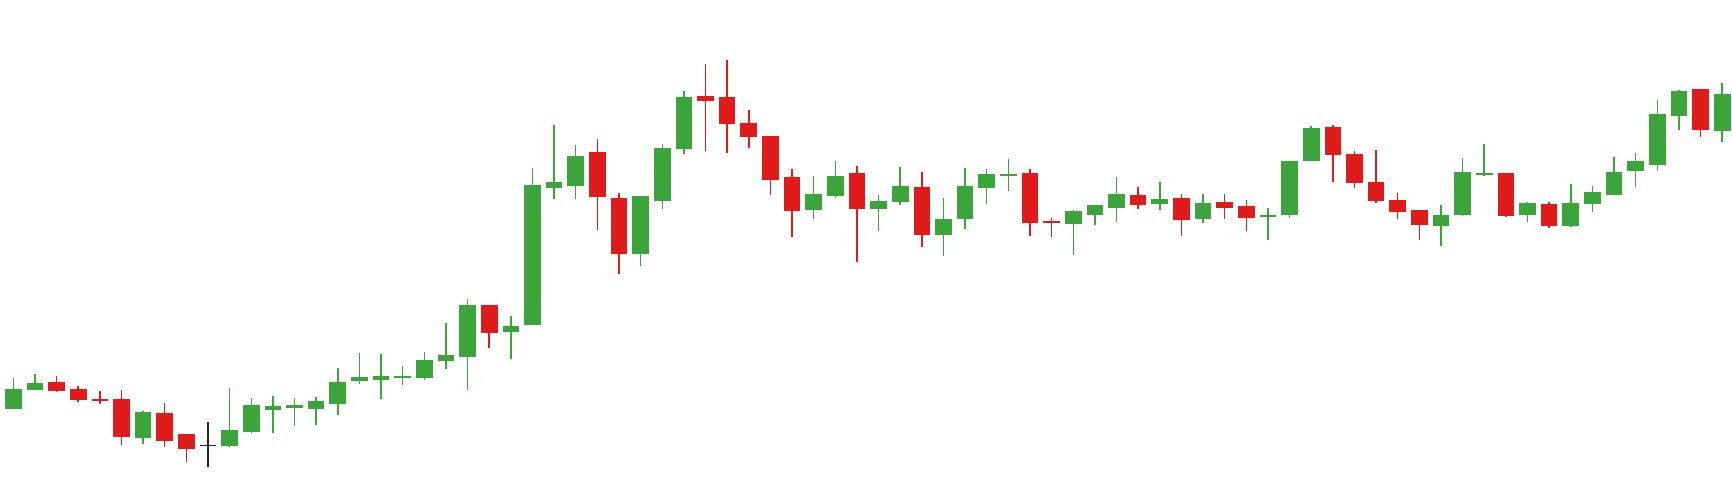sell: (543, 60, 759, 208)
